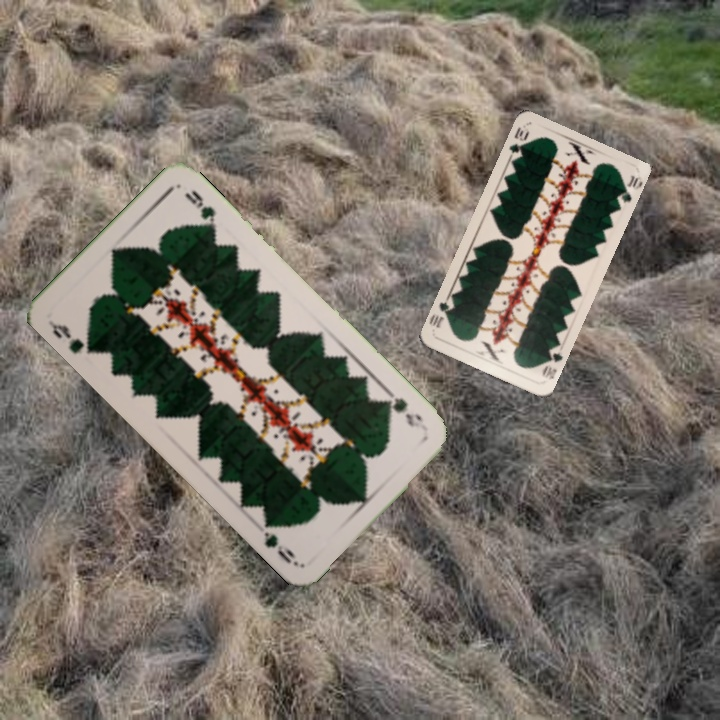G10: (505, 123, 532, 163), (538, 347, 565, 382)
G9: (45, 317, 99, 357), (379, 388, 425, 431)
